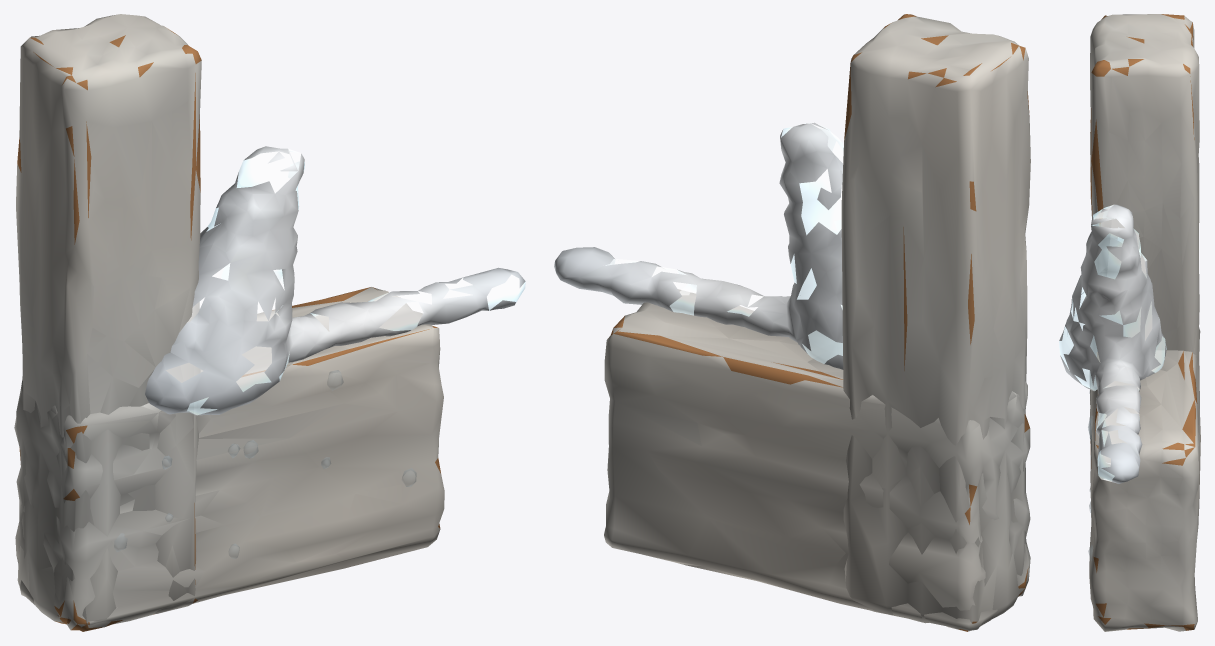
File: frost_window_cliff_corner_lod1.glb
3 renders of one model, left to right at view 1: azimuth 30°, elevation 25°; view 2: azimuth 150°, elevation 25°; view 3: azimuth 270°, elevation 25°, orthographic. The views are drawn at different scales.
Visible parts, largest first — view 1: frost_window_cliff_corner.001; view 2: frost_window_cliff_corner.001; view 3: frost_window_cliff_corner.001.
Boxes of the visible parts, <box> form: frost_window_cliff_corner.001: <box>14,14,525,631</box>; frost_window_cliff_corner.001: <box>554,14,1030,631</box>; frost_window_cliff_corner.001: <box>1059,14,1200,631</box>.
Bounding box in the file's own units: 17.62 × 20.26 × 5.47.
